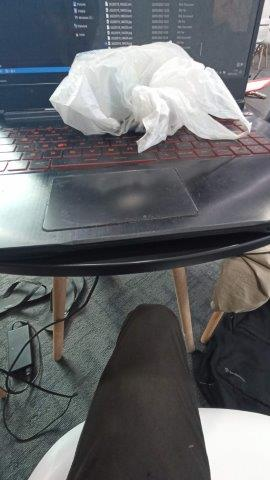plastik: (50, 42, 250, 152)
